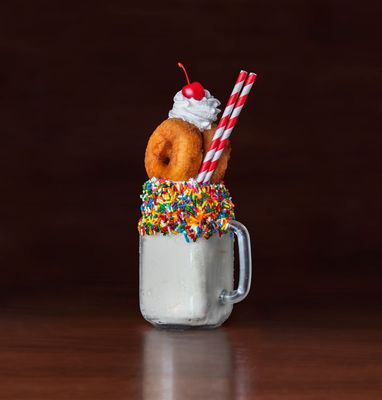pizza: (195, 69, 257, 185)
